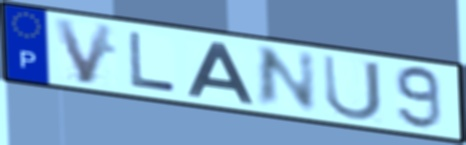9: (393, 64, 446, 132)
A: (184, 39, 257, 106)
L: (125, 29, 179, 94)
N: (254, 44, 320, 113)
U: (319, 52, 385, 123)
V: (50, 16, 118, 87)
